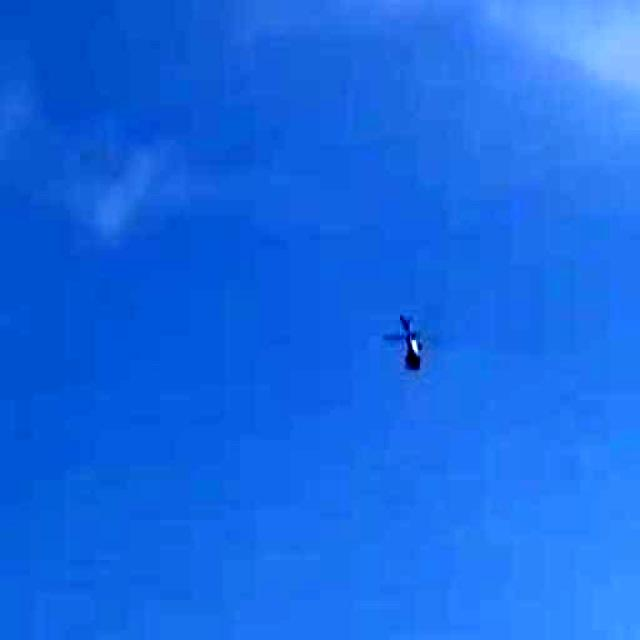drone: (370, 302, 456, 389)
